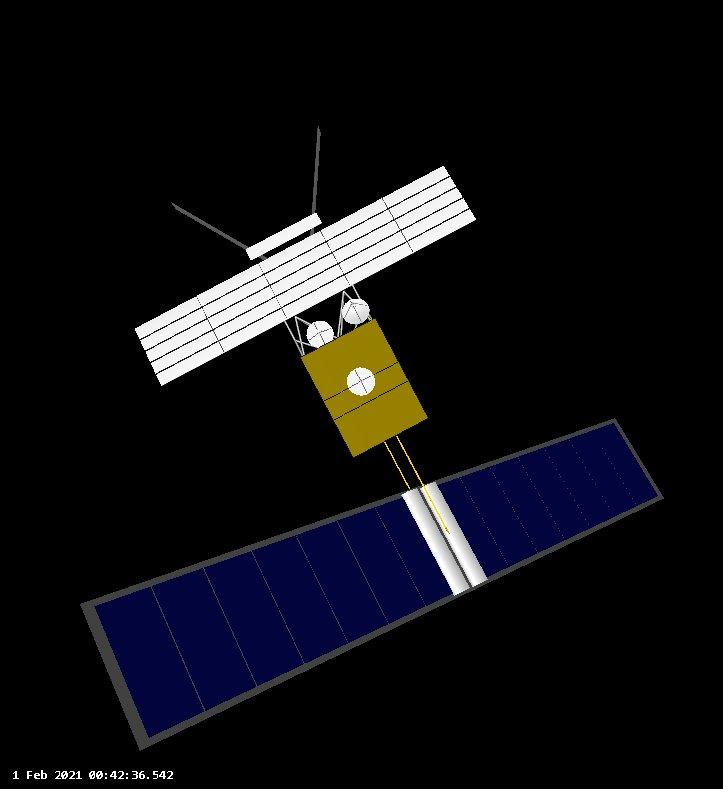antenna: (345, 366, 377, 397), (305, 318, 335, 349), (340, 297, 371, 326)
solar: (77, 485, 473, 754), (418, 415, 670, 588)
